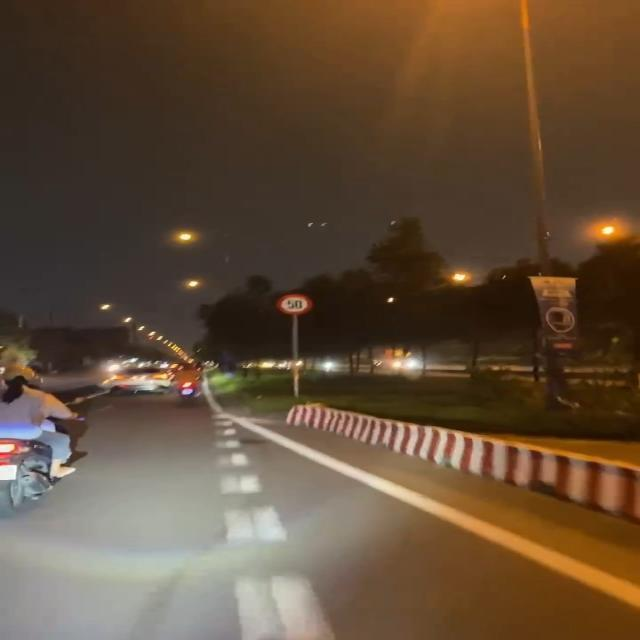127-toc-do-toi-da-50: (278, 293, 316, 315)
